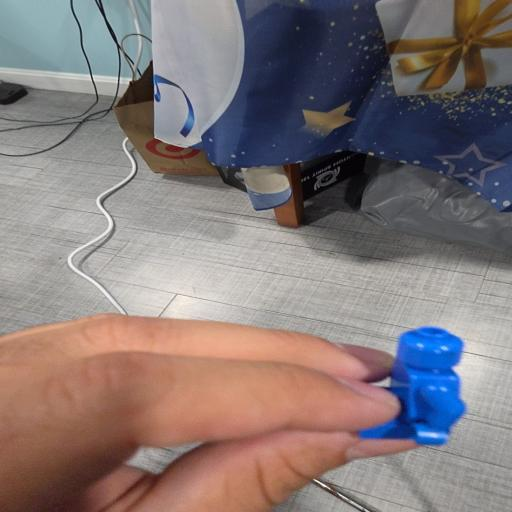Blue: (359, 327, 465, 445)
